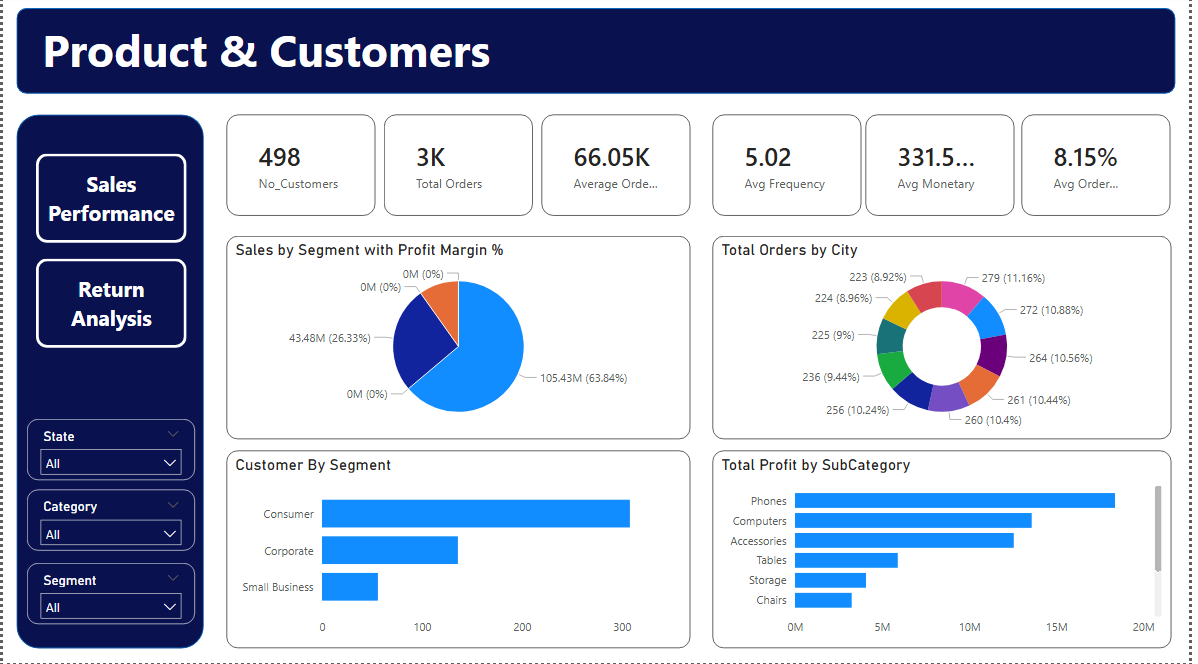

What the dashboard file says about the page in this screenshot:
{"tool":"powerbi","page":{"name":"Product Analysis","canvas":[1280,720],"ordinal":1},"visuals":[{"type":"shape","box":[15.1,13.2,1251,92.6],"z":0},{"type":"shape","box":[14.6,127.9,202.4,576.4],"z":1},{"type":"cardVisual","fields":{"Data":["customers.Total Customers"]},"box":[241.9,128.5,240,120],"z":2},{"type":"cardVisual","fields":{"Data":["customers.Avg Order Discount"]},"box":[1021.7,127.9,239.6,119.8],"z":3},{"type":"cardVisual","fields":{"Data":["customers.Average Order Value"]},"box":[765.9,127.9,241.3,119.8],"z":4},{"type":"cardVisual","fields":{"Data":["customers.Total Orders"]},"box":[500.3,127.9,241.3,119.8],"z":5},{"type":"textbox","box":[37.8,18.9,689.8,86.9],"z":6},{"type":"barChart","title":"Customer By Segment","fields":{"Category":["customers.Segment"],"Y":["CountNonNull(customers.CustomerID)"]},"box":[241.9,491.3,500.8,213.5],"z":7},{"type":"barChart","fields":{"Category":["products.SubCategory"],"Y":["customers.Total Profit"]},"box":[765.4,491.3,495.1,213.5],"z":8},{"type":"pieChart","title":"Sales by Segment with Profit Margin %","fields":{"Category":["customers.Segment"],"Y":["customers.Net Sales","customers.Profit Margin %"]},"box":[241.9,258.9,500.8,219.2],"z":9},{"type":"donutChart","fields":{"Category":["customers.City"],"Y":["customers.Total Orders"]},"box":[765.4,258.9,495.1,219.2],"z":10},{"type":"slicer","fields":{"Values":["customers.State"]},"box":[871.1,29.1,181.4,66.4],"z":14},{"type":"slicer","fields":{"Values":["products.Category"]},"box":[1067.1,25.9,181.4,66.4],"z":15},{"type":"actionButton","box":[35.9,283.5,162.5,96.4],"z":17},{"type":"actionButton","box":[35.9,170.1,162.5,96.4],"z":18}]}

Visuals, with their boxes in screenshot pixels (x1, y1, x2, y2), scaled from the page's 1280x720 canvas onto the 1198x664 screenshot:
shape: crop(14, 12, 1185, 98)
shape: crop(14, 118, 203, 650)
cardVisual - customers.Total Customers: crop(226, 119, 451, 229)
cardVisual - customers.Avg Order Discount: crop(956, 118, 1180, 228)
cardVisual - customers.Average Order Value: crop(717, 118, 943, 228)
cardVisual - customers.Total Orders: crop(468, 118, 694, 228)
textbox: crop(35, 17, 681, 98)
"Customer By Segment" barChart: crop(226, 453, 695, 650)
barChart - products.SubCategory x customers.Total Profit: crop(716, 453, 1180, 650)
"Sales by Segment with Profit Margin %" pieChart: crop(226, 239, 695, 441)
donutChart - customers.City x customers.Total Orders: crop(716, 239, 1180, 441)
slicer - customers.State: crop(815, 27, 985, 88)
slicer - products.Category: crop(999, 24, 1169, 85)
actionButton: crop(34, 261, 186, 350)
actionButton: crop(34, 157, 186, 246)
